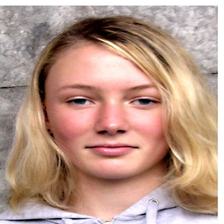no_mask: (47, 58, 169, 178)
